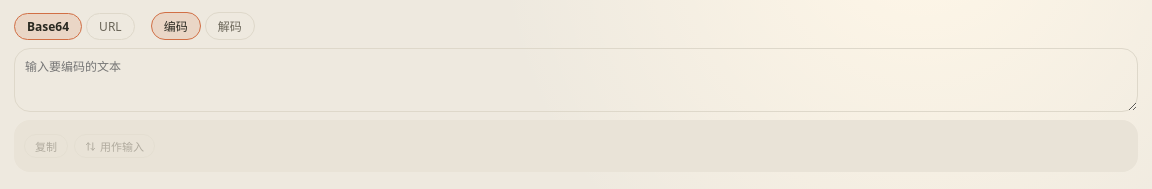
Test case: ConverterPane 编码页 › 输入即出结果
In the text box with placeholder "输入要编码的文本": (576, 80) [14,48,1138,112], type "hello"
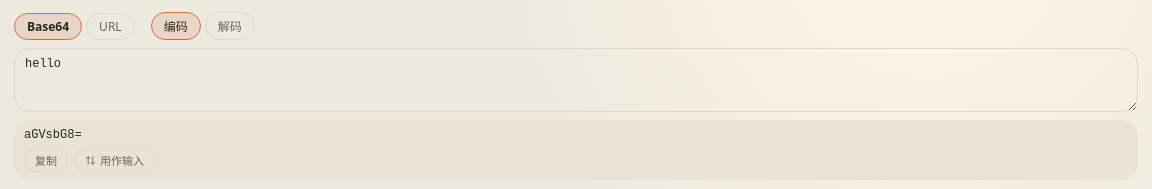
Now the text "aGVsbG8=" is shown, box [24,128,82,142]
